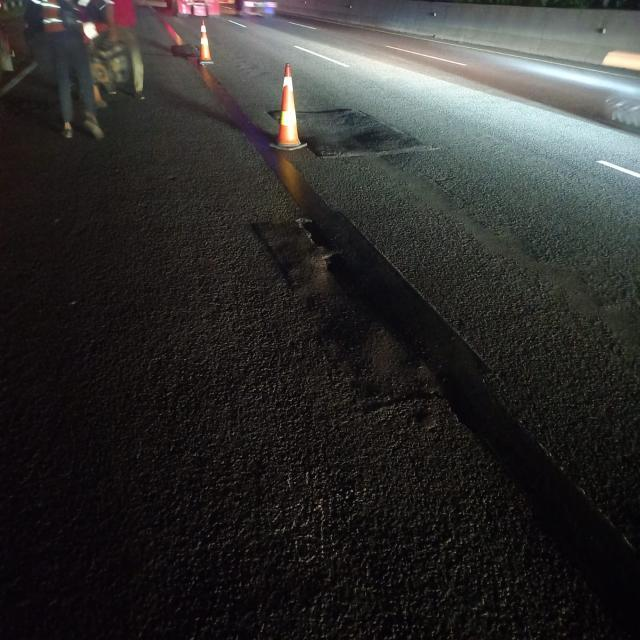Buraco: (292, 215, 370, 302)
